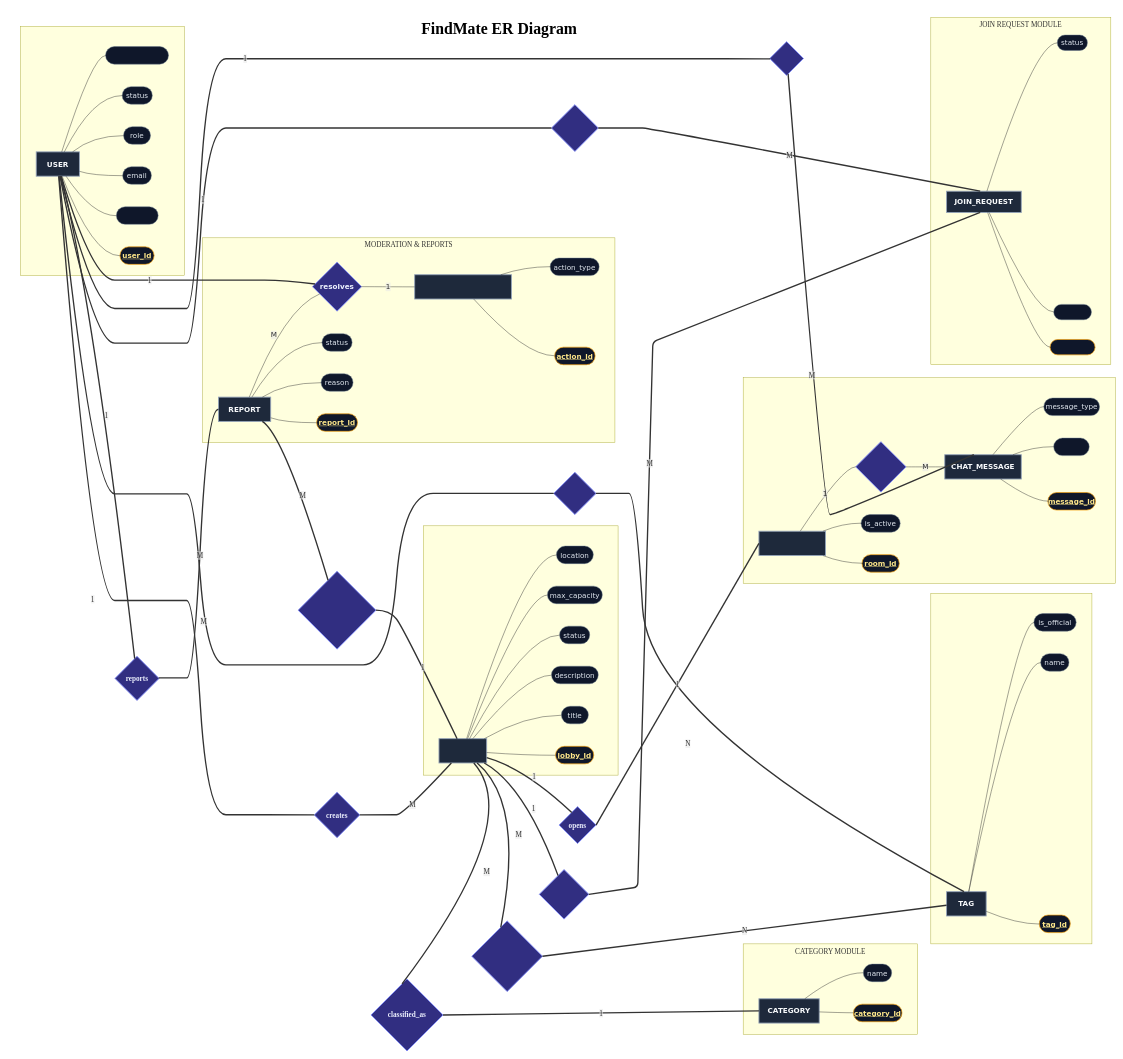
Some shapes in this 1123 by 1059 pixel diagram are drawn without their labels. The box of each missing label's shape, as (x1, y1, x2, y2) in pixels:
CHAT ROOM & MESSAGES: (743, 377, 1115, 583)
CHAT_ROOM: (758, 531, 826, 556)
contains: (855, 441, 906, 492)
content: (1053, 438, 1089, 456)
LOBBY: (438, 738, 487, 763)
LOBBY MODULE: (423, 525, 618, 775)
message: (1053, 304, 1091, 320)
MODERATION_ACTION: (414, 274, 512, 299)
posts: (769, 41, 804, 76)
receives: (539, 869, 589, 919)
reliability_score: (105, 46, 169, 64)
request_id: (1050, 339, 1095, 355)
selects: (553, 472, 596, 515)
submits: (551, 104, 598, 152)
TAG MODULE: (930, 593, 1092, 944)
tagged_with: (471, 920, 543, 992)
targets_lobby: (297, 571, 376, 649)
USER MODULE: (20, 26, 184, 276)
username: (116, 206, 158, 224)
